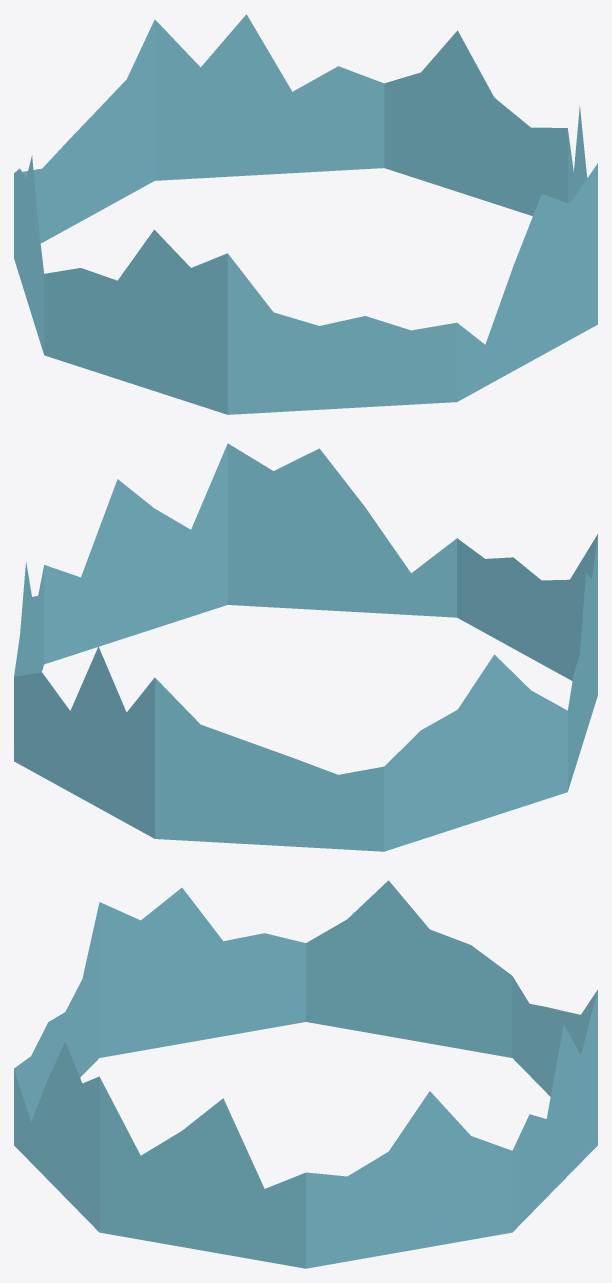
Rendered from silver_join_area_active.gltf.
3 renders of one model, top to bottom at view 1: azimuth 30°, elevation 25°; view 2: azimuth 150°, elevation 25°; view 3: azimuth 270°, elevation 25°, orthographic. The views are drawn at different scales.
Visible parts, largest first — view 1: silver_active; view 2: silver_active; view 3: silver_active.
Boxes of the visible parts, x1,y1,x2,y2 form: silver_active: (14,14,597,414); silver_active: (14,443,597,851); silver_active: (14,880,597,1268).
Size of the model in its own units: 3.8 by 1.12 by 3.8.
Materials: 1 (1 with a texture image).
